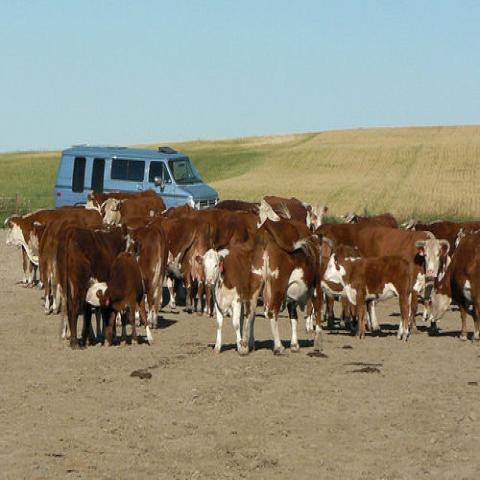car: (54, 149, 220, 211)
